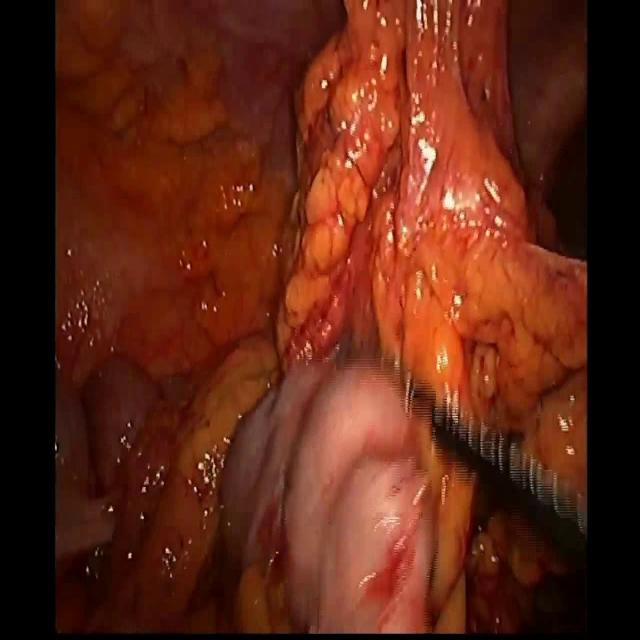surgical-area: (54, 0, 588, 631)
surgical-tool: (430, 401, 588, 570)
